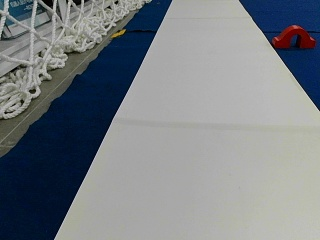bridge: (273, 25, 315, 47)
